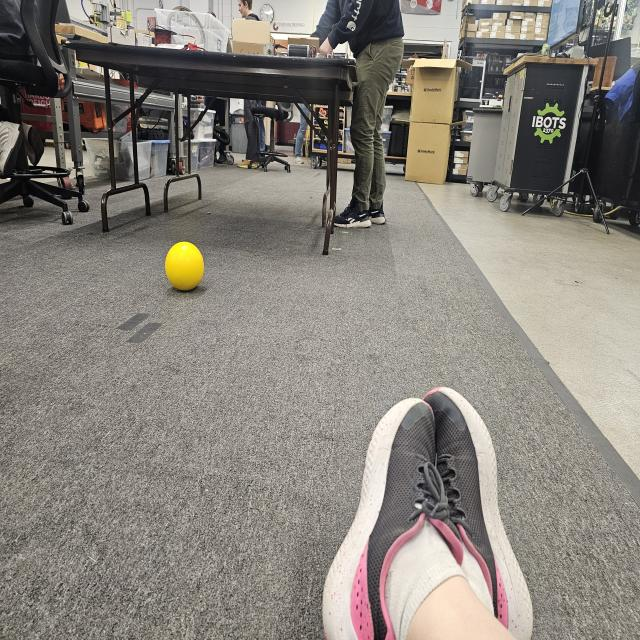Fuel: (164, 243, 204, 292)
